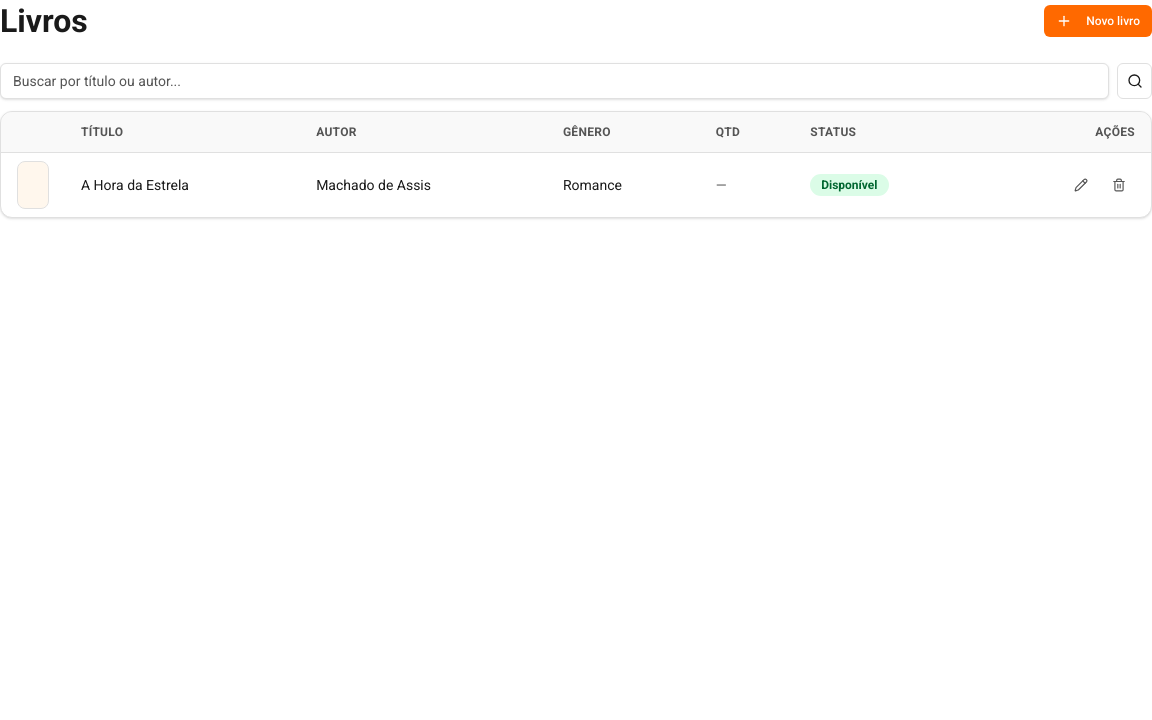
Test: LivrosPage (staff) › opens the "Novo livro" drawer with the form
Expected: the text "A Hora da Estrela" is shown, [65, 152, 300, 217]
Click the button "Novo livro" at (1098, 21), box [1044, 5, 1151, 37]
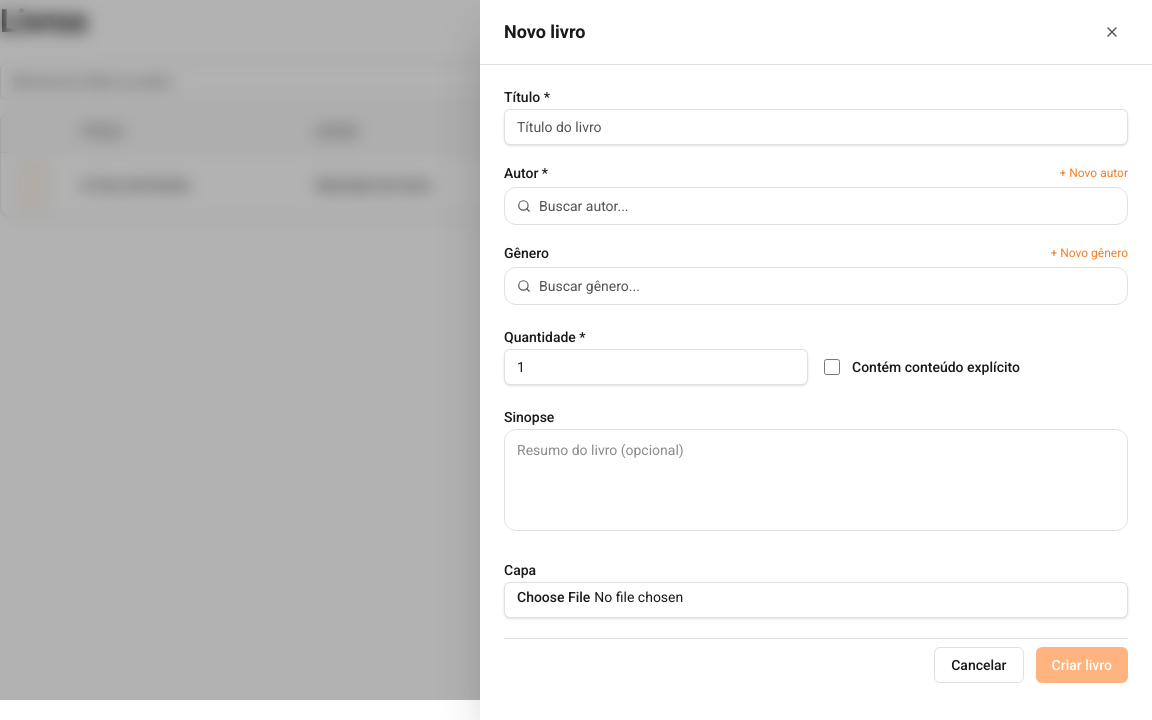
Result: the field with placeholder "Título do livro" is shown at [504, 109, 1128, 145]
